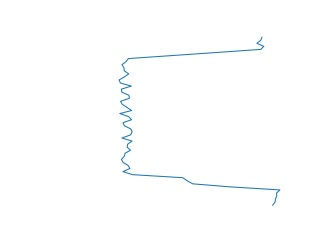distributaryChannelFill: (113, 36, 286, 206)
